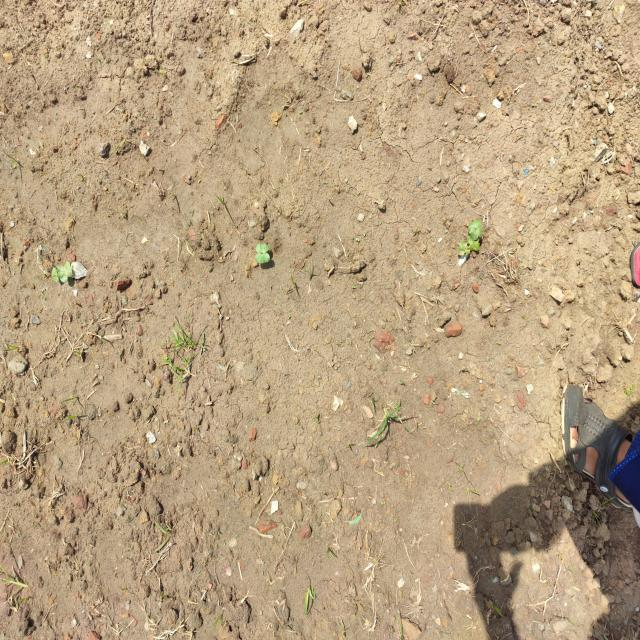seedling_s1: (468, 220, 482, 240), (458, 240, 471, 256), (56, 265, 68, 282), (255, 252, 270, 263), (255, 243, 269, 253), (64, 262, 72, 277), (467, 235, 480, 244), (469, 242, 480, 251), (52, 267, 58, 282)
